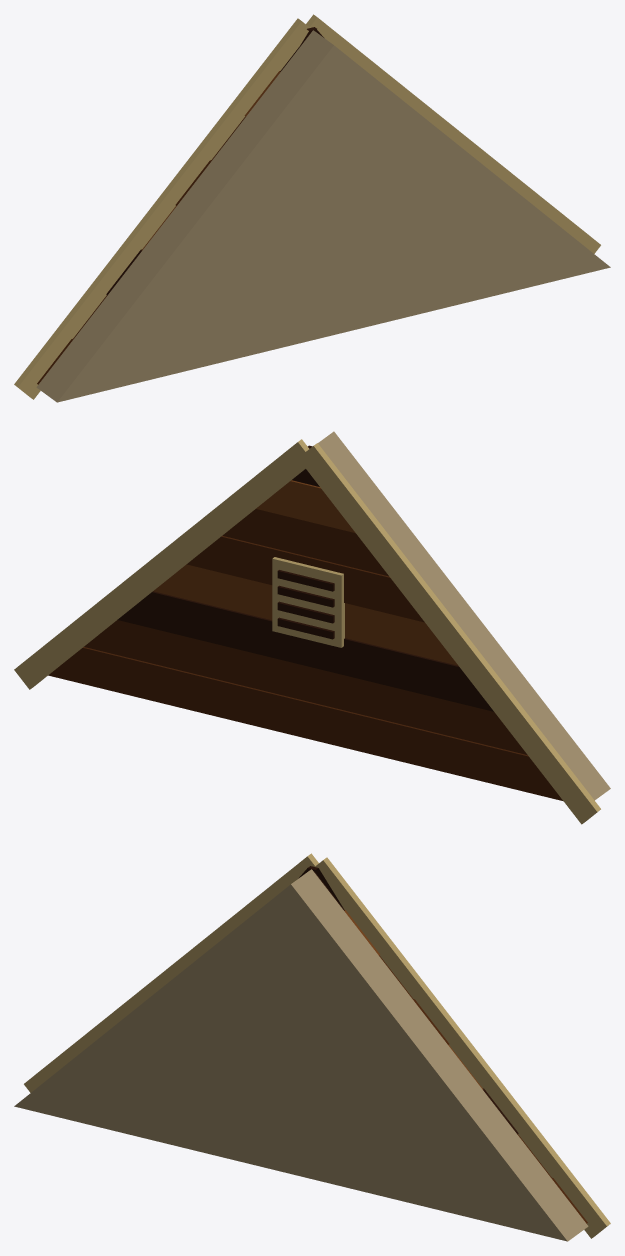
File: SM_Bld_Wall_Gable.glb
3 renders of one model, top to bottom at view 1: azimuth 30°, elevation 25°; view 2: azimuth 150°, elevation 25°; view 3: azimuth 330°, elevation 25°, orthographic.
Visible parts, largest first — view 1: SM_Bld_Wall_Gable; view 2: SM_Bld_Wall_Gable; view 3: SM_Bld_Wall_Gable.
Boxes of the visible parts, x1,y1,x2,y2 form: SM_Bld_Wall_Gable: (14,14,610,402); SM_Bld_Wall_Gable: (14,431,610,824); SM_Bld_Wall_Gable: (14,853,610,1241).
Size of the model in its own units: 4.21 by 2.16 by 0.36.
Materials: 1 (1 with a texture image).
